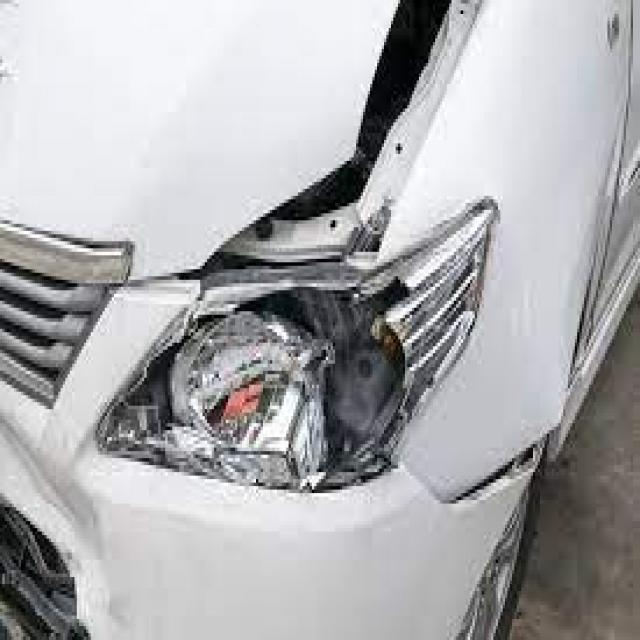minor: (107, 232, 491, 516)
